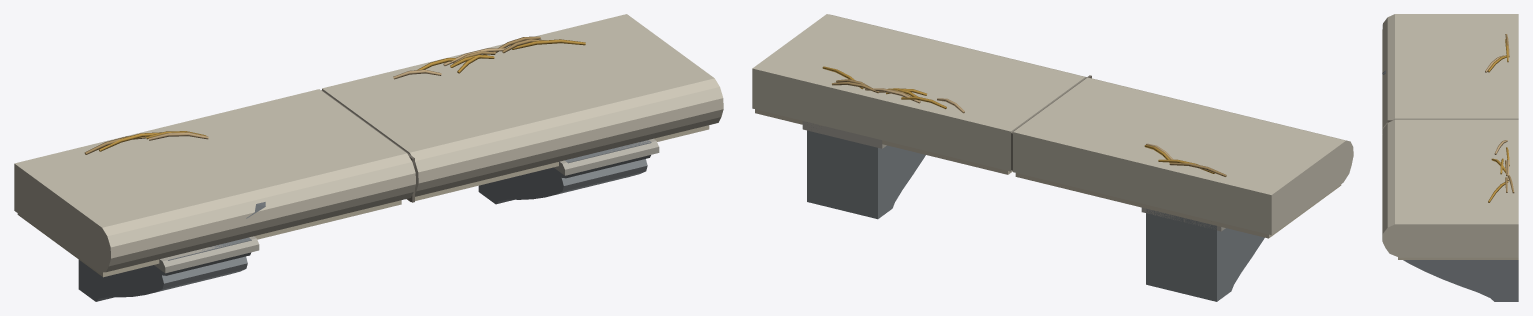
The model's file is SM_LPD_Prison_CellFittingLedge_01.fbx.
3 renders of one model, left to right at view 1: azimuth 30°, elevation 25°; view 2: azimuth 150°, elevation 25°; view 3: azimuth 270°, elevation 25°, orthographic. The views are drawn at different scales.
Visible parts, largest first — view 1: SM_LPD_Prison_CellFittingLedge_01; view 2: SM_LPD_Prison_CellFittingLedge_01; view 3: SM_LPD_Prison_CellFittingLedge_01.
Part boxes in pixels (left/top/right/bottom): SM_LPD_Prison_CellFittingLedge_01: left=14, top=14, right=723, bottom=301; SM_LPD_Prison_CellFittingLedge_01: left=752, top=14, right=1353, bottom=301; SM_LPD_Prison_CellFittingLedge_01: left=1382, top=14, right=1518, bottom=301.
Bounding box in the file's own units: 1.9 × 0.4389 × 0.52.
